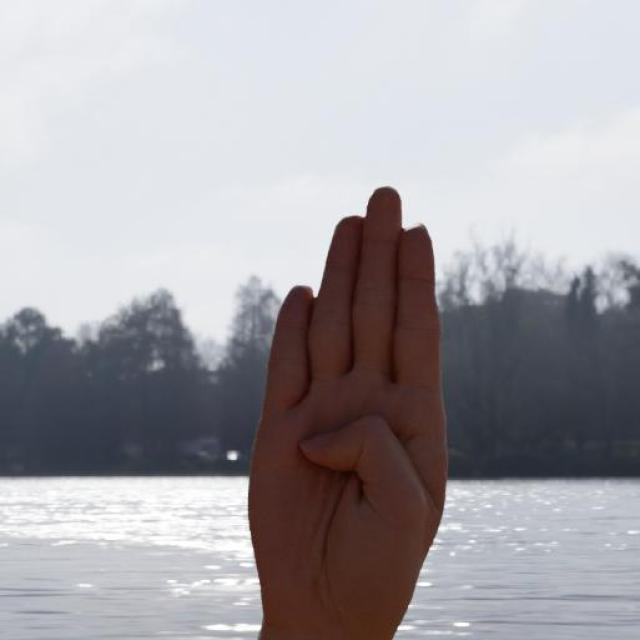B: (241, 185, 450, 637)
